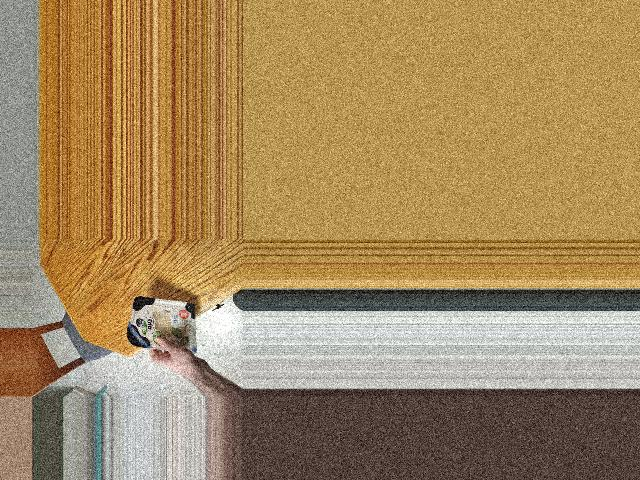cheese: (124, 302, 205, 352)
